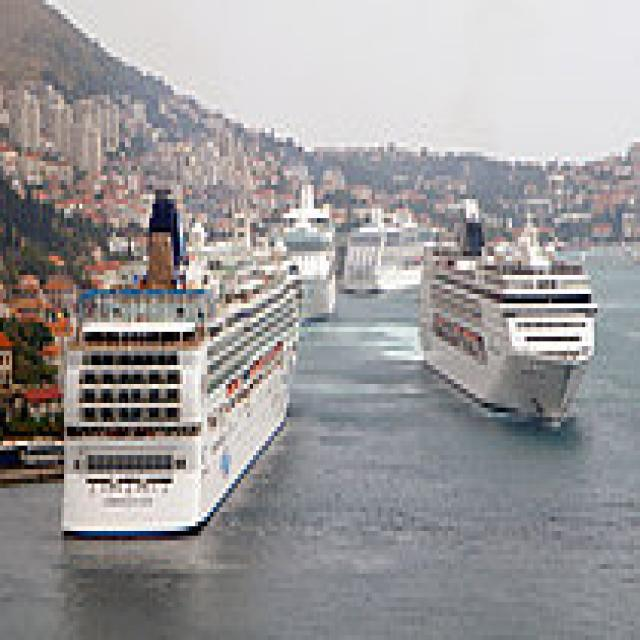Ship: (47, 176, 315, 551), (401, 181, 611, 447)
